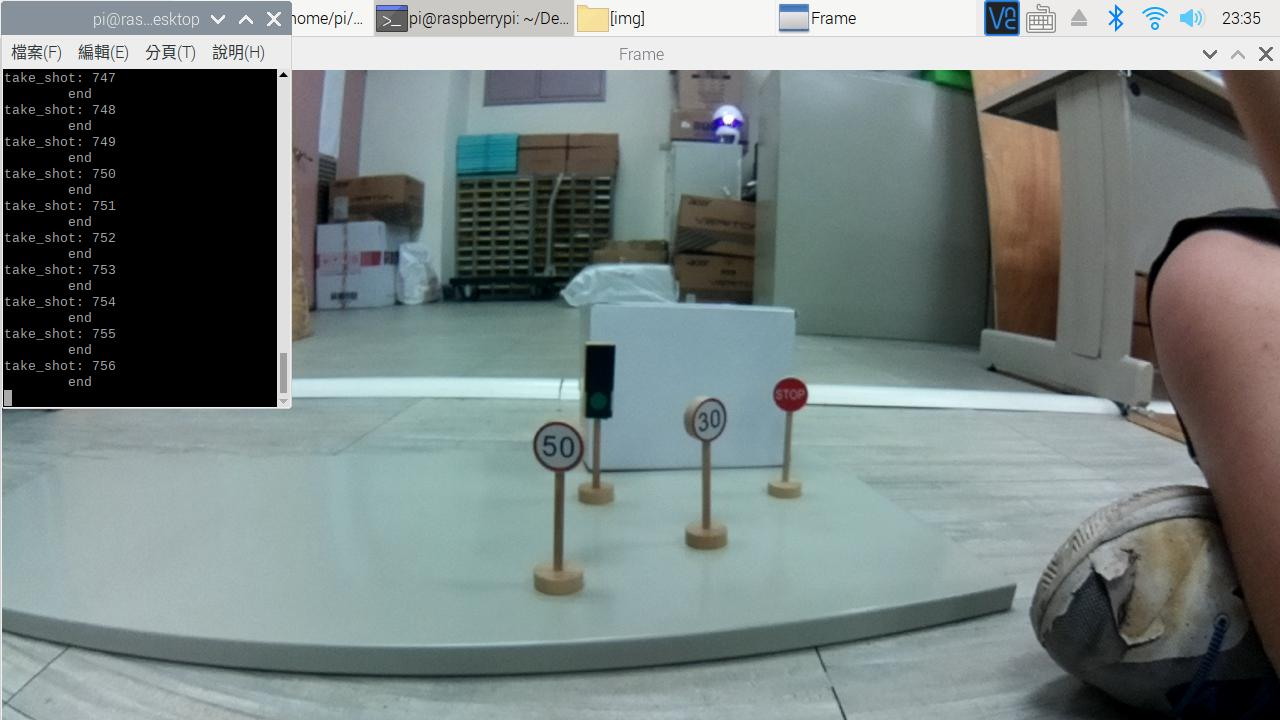Green: (574, 334, 620, 418)
Speed30: (676, 381, 729, 456)
Speed50: (530, 412, 590, 477)
Stop: (764, 362, 820, 418)
